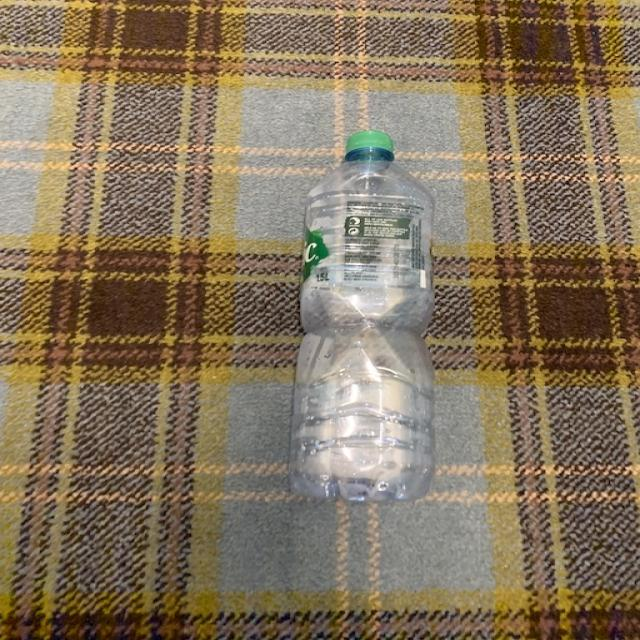litter: (290, 131, 434, 508)
